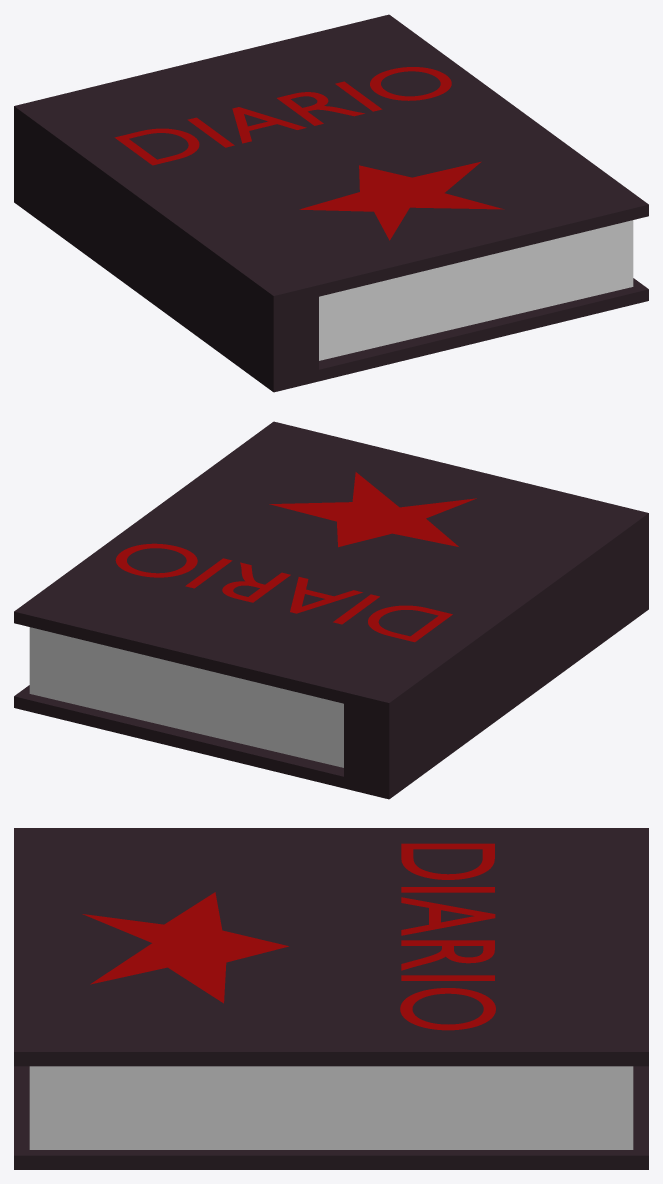
The model's file is diario.fbx.
3 views of the same model, one above another, from view 1: azimuth 30°, elevation 25°; view 2: azimuth 150°, elevation 25°; view 3: azimuth 270°, elevation 25° (orthographic). The views are drawn at different scales.
Parts seen in each view (by area): view 1: Cube.004, Text; view 2: Cube.004, Text; view 3: Cube.004, Text.
Boxes of the visible parts, x1=… form: Cube.004: x1=14, y1=14, x2=648, y2=392; Text: x1=114, y1=67, x2=451, y2=165; Cube.004: x1=14, y1=421, x2=648, y2=799; Text: x1=115, y1=543, x2=452, y2=642; Cube.004: x1=14, y1=828, x2=648, y2=1169; Text: x1=400, y1=843, x2=495, y2=1030.
Bounding box in the file's own units: 263 × 68.18 × 315.
